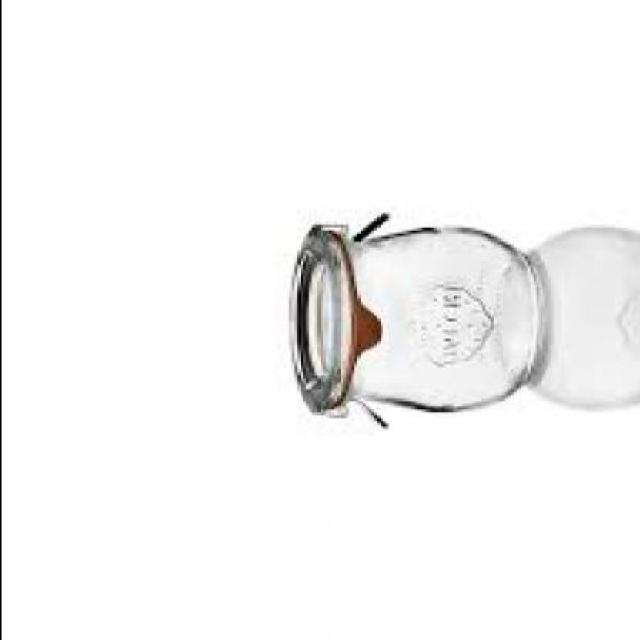GLASS: (285, 219, 543, 430)
